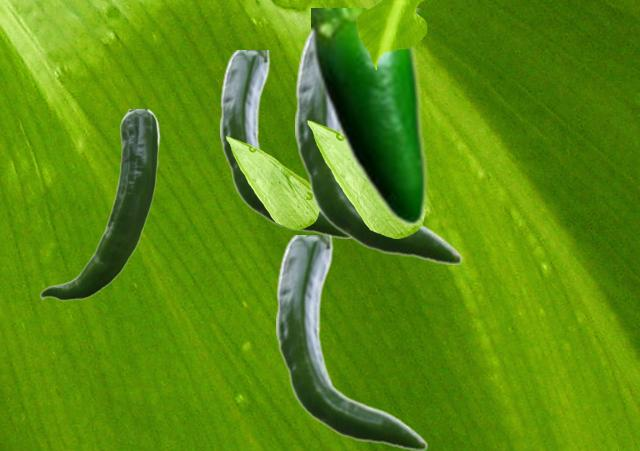green_chili: (295, 27, 462, 263), (276, 235, 427, 449), (311, 8, 427, 226), (220, 50, 346, 237), (39, 109, 159, 300)
